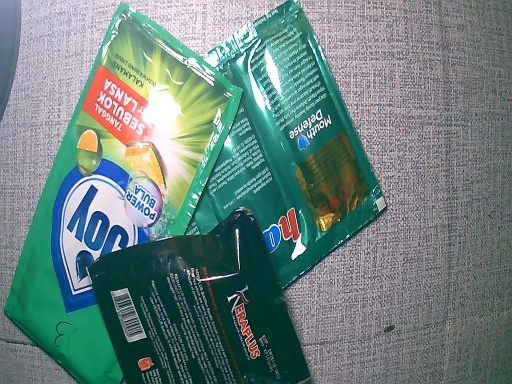plastic: (4, 19, 243, 384), (183, 2, 387, 277), (89, 207, 312, 384)
